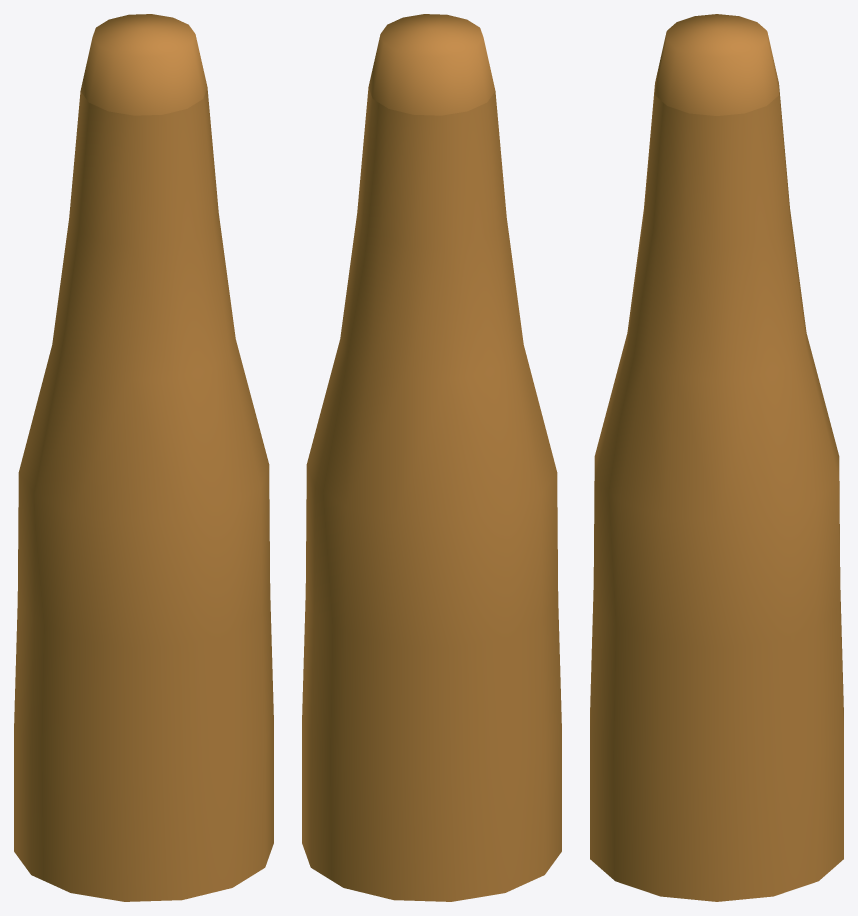
The model's file is bottle_3.fbx.
3 renders of one model, left to right at view 1: azimuth 30°, elevation 25°; view 2: azimuth 150°, elevation 25°; view 3: azimuth 270°, elevation 25°, orthographic.
Visible parts, largest first — view 1: Cylinder003; view 2: Cylinder003; view 3: Cylinder003.
Part boxes in pixels (x1=…): Cylinder003: x1=14, y1=14, x2=273, y2=901; Cylinder003: x1=302, y1=14, x2=561, y2=901; Cylinder003: x1=590, y1=14, x2=843, y2=901.
Size of the model in its own units: 1.06 by 3.66 by 1.03.
